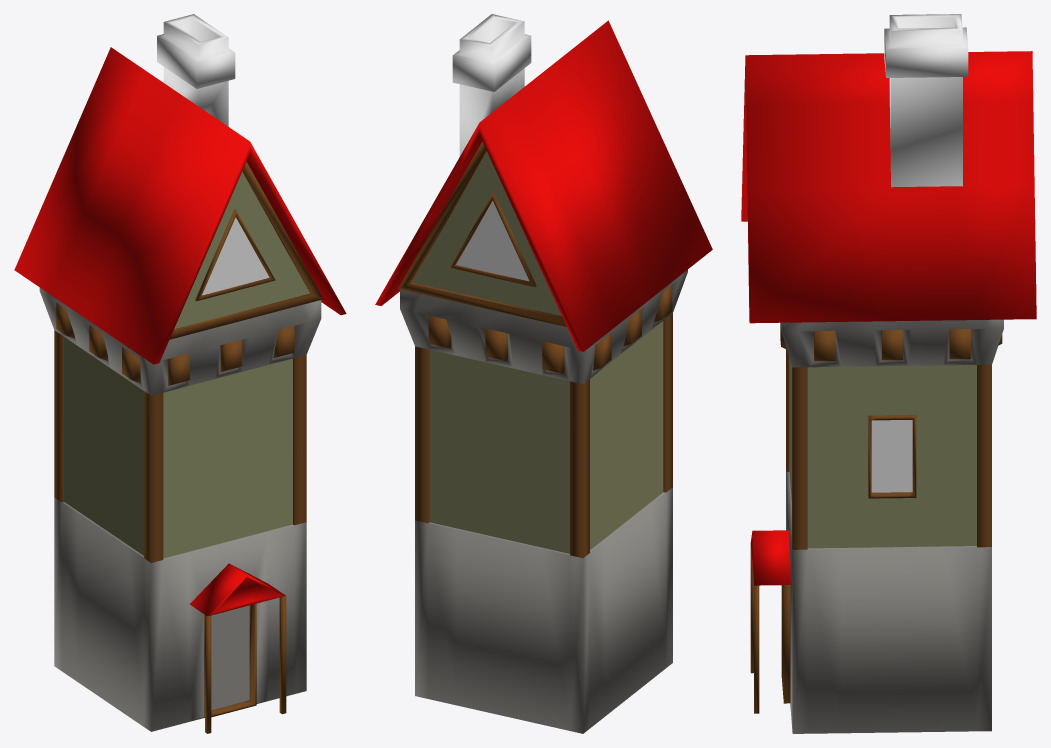
Rendered from house4.fbx.
3 views of the same model, side by side, from view 1: azimuth 30°, elevation 25°; view 2: azimuth 150°, elevation 25°; view 3: azimuth 270°, elevation 25° (orthographic). The views are drawn at different scales.
Parts seen in each view (by area): view 1: Cube.008, Cube.012, Cube.001, Cube.028, Cube.023, Cube.025; view 2: Cube.008, Cube.001, Cube.012, Cube.028, Cube.023, Cube.025; view 3: Cube.012, Cube.008, Cube.001, Cube.023, Cube.028, Cube.025.
Part boxes in pixels (x1,y1,x2,y2): Cube.008: (39,287,321,731); Cube.012: (14,47,346,616); Cube.001: (64,172,310,558); Cube.028: (54,162,323,733); Cube.023: (157,14,235,126); Cube.025: (202,217,269,295); Cube.008: (400,269,687,733); Cube.001: (412,152,663,553); Cube.012: (375,20,712,351); Cube.028: (398,141,672,558); Cube.023: (452,14,531,156); Cube.025: (456,201,529,281); Cube.012: (741,51,1036,585); Cube.008: (780,319,1003,733); Cube.001: (789,358,976,548); Cube.023: (884,14,968,187); Cube.028: (750,323,1002,713); Cube.025: (871,420,912,492).
Size of the model in its own units: 448 by 1316 by 514.
